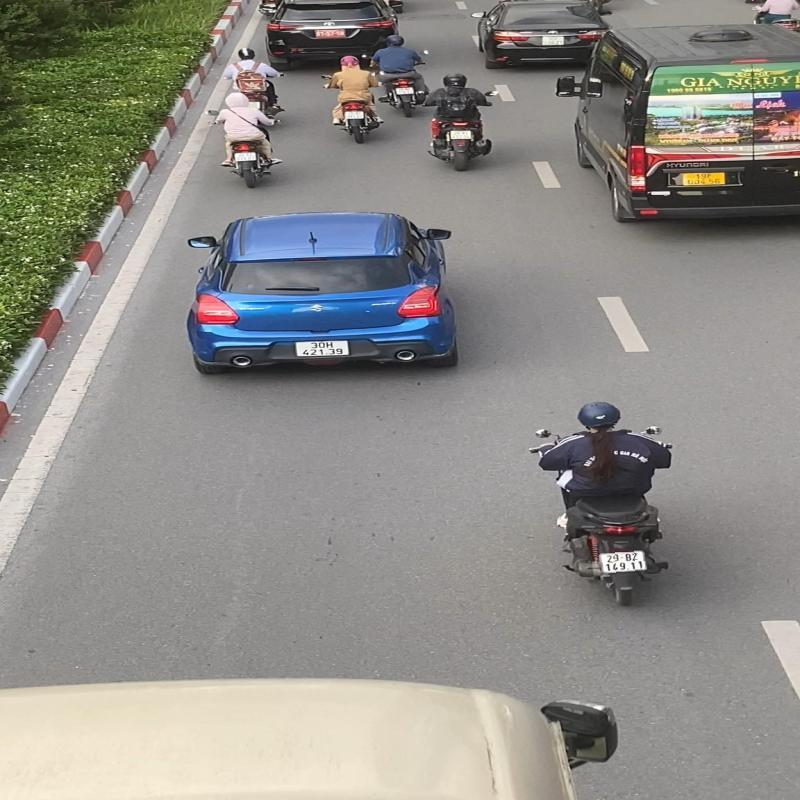helmet: (572, 398, 625, 428)
licenseplate: (597, 548, 652, 575)
